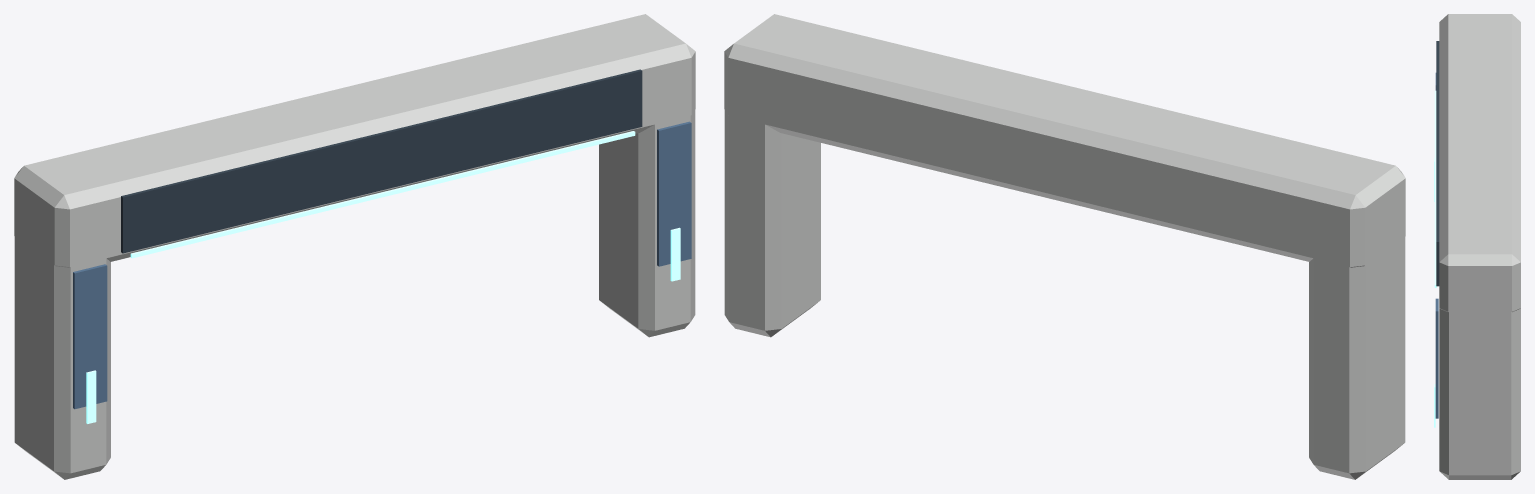
File: relay_gate.glb
The picture shows the model from 3 angles, left to right: view 1: azimuth 30°, elevation 25°; view 2: azimuth 150°, elevation 25°; view 3: azimuth 270°, elevation 25°; orthographic projection. The views are drawn at different scales.
Visible parts, largest first — view 1: relay_gate_concrete, relay_gate_dark, relay_gate_blue, relay_gate_mint; view 2: relay_gate_concrete; view 3: relay_gate_concrete, relay_gate_dark, relay_gate_mint, relay_gate_blue.
Boxes of the visible parts, x1,y1,x2,y2 form: relay_gate_concrete: (14, 14, 695, 479); relay_gate_dark: (121, 69, 642, 253); relay_gate_blue: (73, 121, 691, 409); relay_gate_mint: (86, 131, 680, 423); relay_gate_concrete: (724, 14, 1405, 479); relay_gate_concrete: (1439, 14, 1520, 479); relay_gate_dark: (1436, 41, 1439, 286); relay_gate_mint: (1434, 90, 1436, 427); relay_gate_blue: (1435, 73, 1438, 418).
Bounding box in the file's own units: 39.5 × 16.8 × 5.86.
